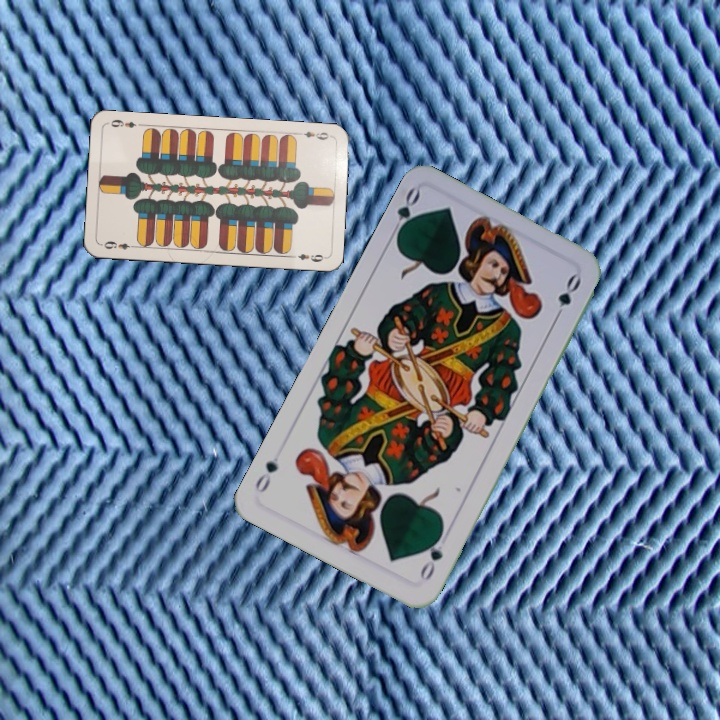E9: (98, 237, 139, 252), (293, 127, 334, 142)
GO: (386, 184, 423, 242), (416, 528, 446, 584)
